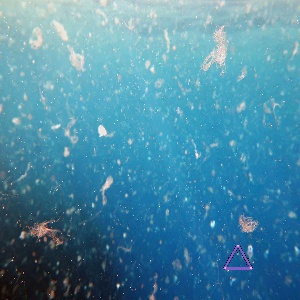triangle: (221, 243, 254, 272)
